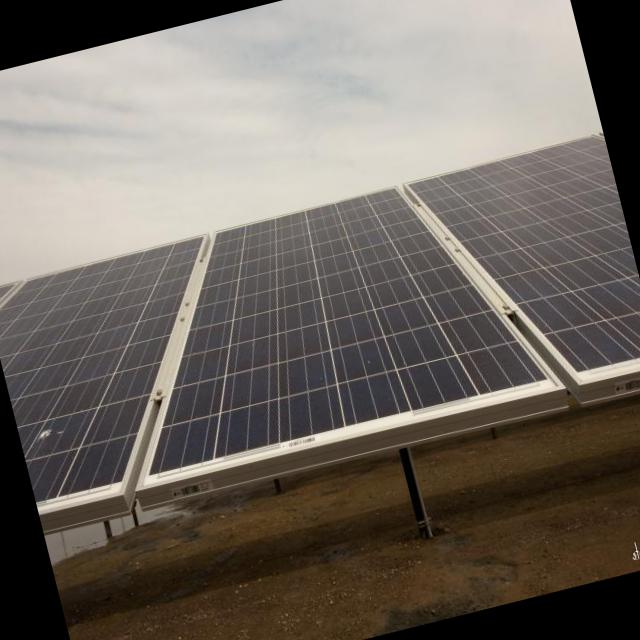faulty: (20, 404, 79, 462)
no faulty: (143, 186, 543, 479)
